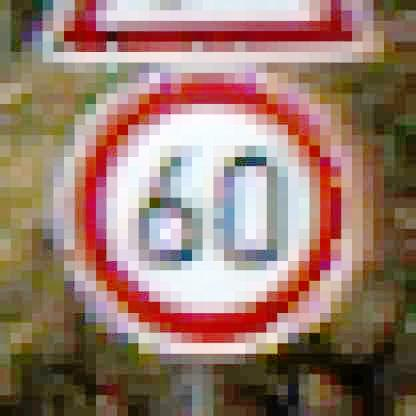Speed Limit -60-: (57, 71, 366, 355)
